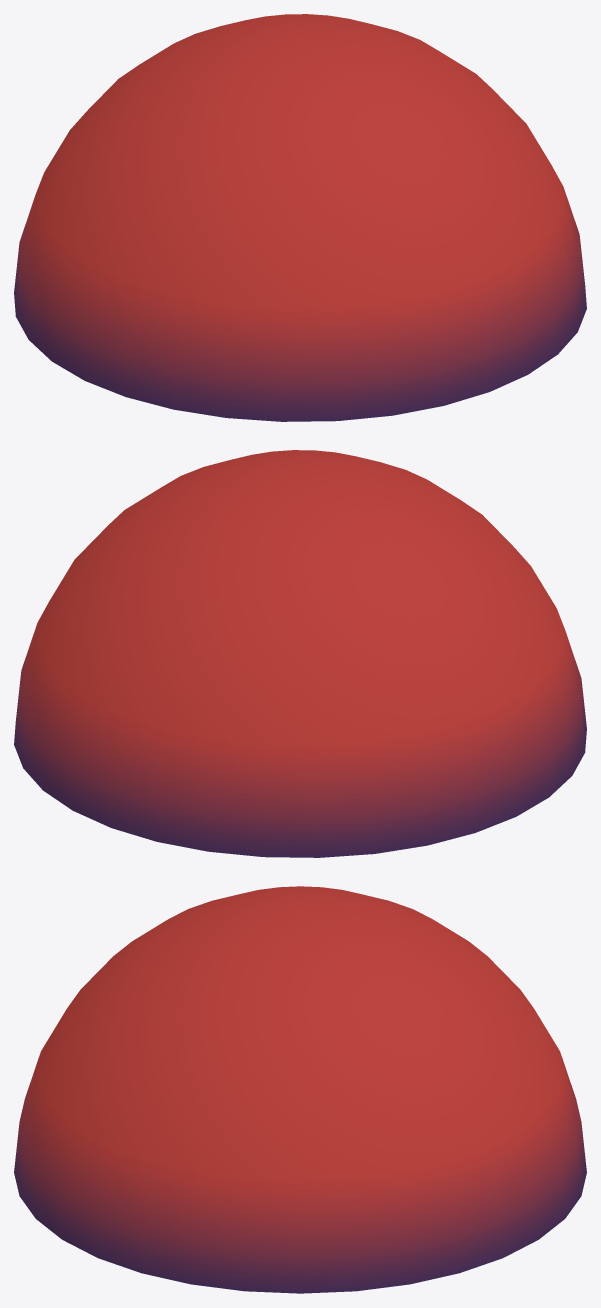
Rendered from shinobu_oshino.glb.
3 renders of one model, top to bottom at view 1: azimuth 30°, elevation 25°; view 2: azimuth 150°, elevation 25°; view 3: azimuth 270°, elevation 25°, orthographic.
Parts seen in each view (by area): view 1: Object_7; view 2: Object_7; view 3: Object_7.
Boxes of the visible parts, box(x1,y1,x2,y2) form: Object_7: box(14, 14, 586, 421); Object_7: box(14, 450, 586, 857); Object_7: box(14, 886, 586, 1293).
Size of the model in its own units: 1712 by 858 by 1712.
8 materials, 8 textured.
